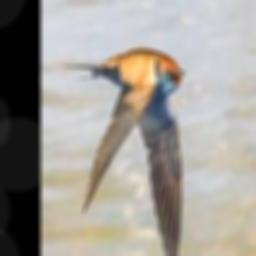Swallow: (65, 50, 187, 256)
